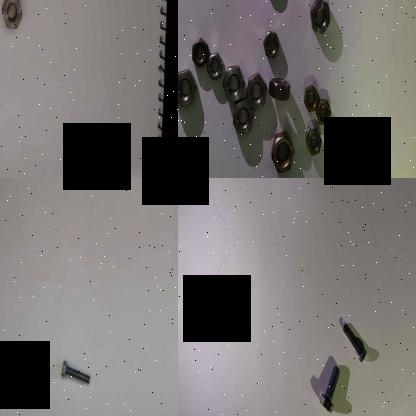Bolts: (317, 359, 341, 416), (340, 318, 368, 365), (59, 356, 90, 388)
NUTS: (269, 126, 296, 174), (230, 96, 254, 138), (178, 64, 201, 107), (221, 63, 245, 101), (244, 72, 268, 108), (187, 33, 208, 71), (265, 76, 295, 102), (308, 0, 330, 35), (0, 0, 23, 31), (304, 122, 324, 156), (205, 44, 222, 84), (261, 29, 280, 58), (314, 96, 332, 126), (302, 84, 319, 115)
